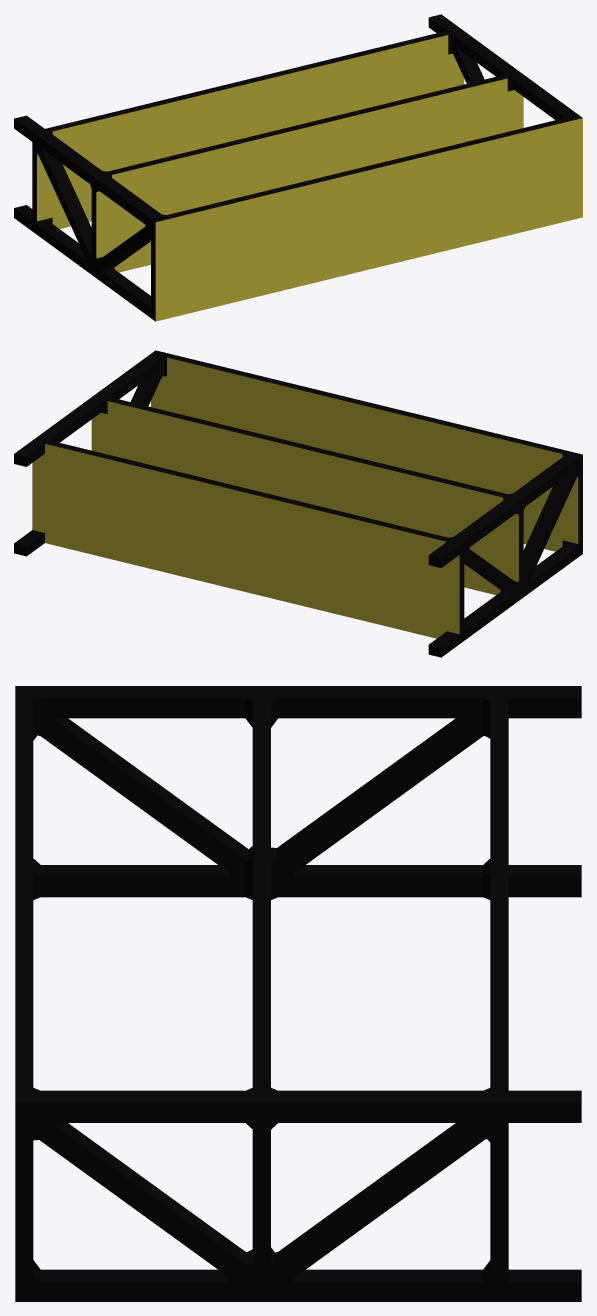
The model's file is kit_tray_shelf.gltf.
3 views of the same model, one above another, from view 1: azimuth 30°, elevation 25°; view 2: azimuth 150°, elevation 25°; view 3: azimuth 270°, elevation 25° (orthographic). The views are drawn at different scales.
Parts seen in each view (by area): view 1: kit_tray_shelf; view 2: kit_tray_shelf; view 3: kit_tray_shelf.
Part boxes in pixels (x1,y1,x2,y2): kit_tray_shelf: [14, 14, 582, 321]; kit_tray_shelf: [14, 350, 582, 657]; kit_tray_shelf: [15, 686, 581, 1301].
Size of the model in its own units: 1.35 by 0.3 by 0.775.
